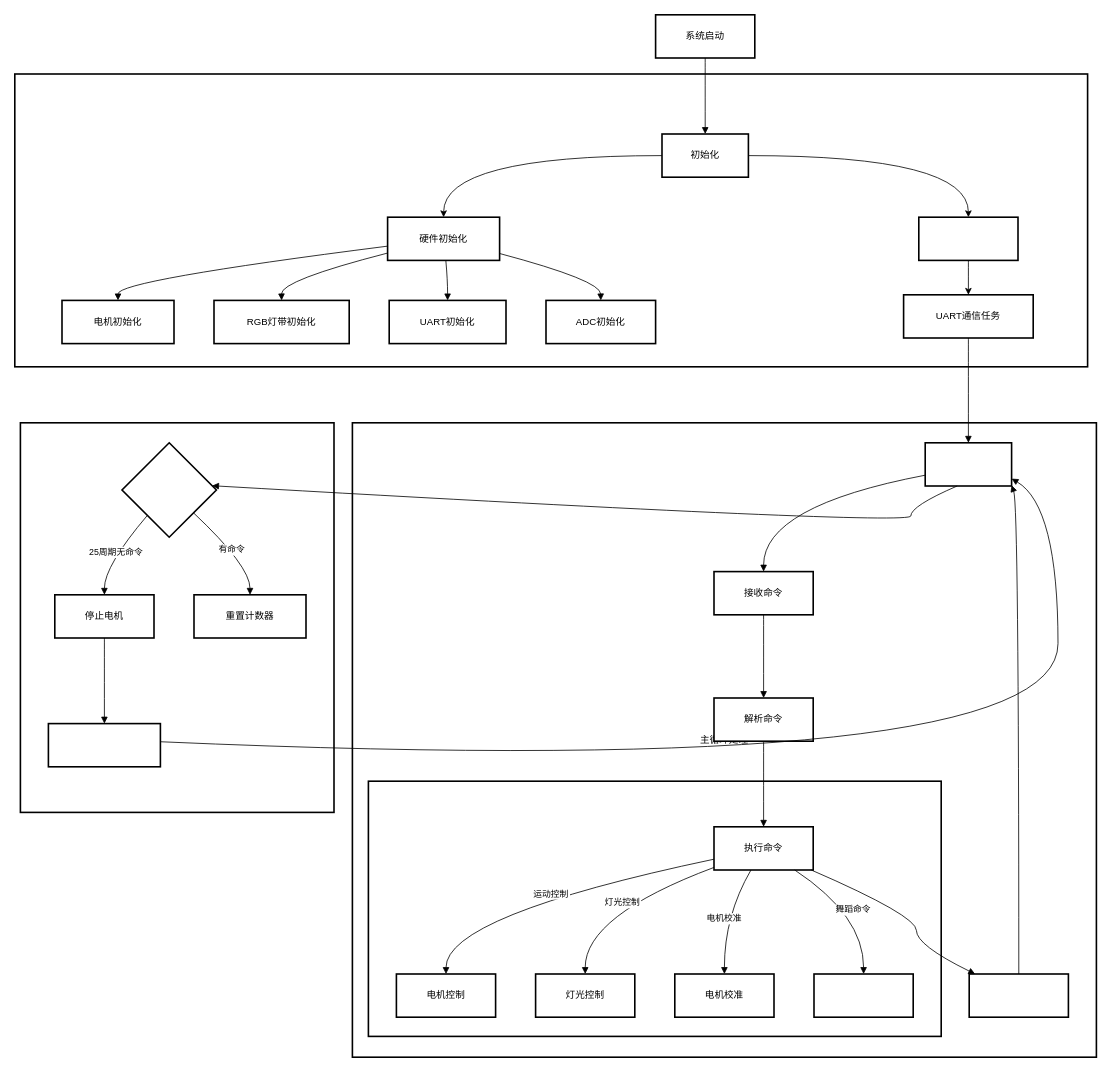
This 1110x1071 diagram has some shape labels left out. Each missing label, with the box of its shape:
主循环: (924, 442, 1012, 486)
创建任务: (918, 216, 1018, 261)
初始化阶段: (14, 73, 1088, 367)
命令执行: (367, 780, 942, 1037)
安全保护: (19, 422, 334, 813)
更新状态: (968, 973, 1069, 1018)
检查超时: (121, 442, 217, 538)
等待新命令: (47, 722, 161, 767)
舞蹈控制: (813, 973, 914, 1018)
